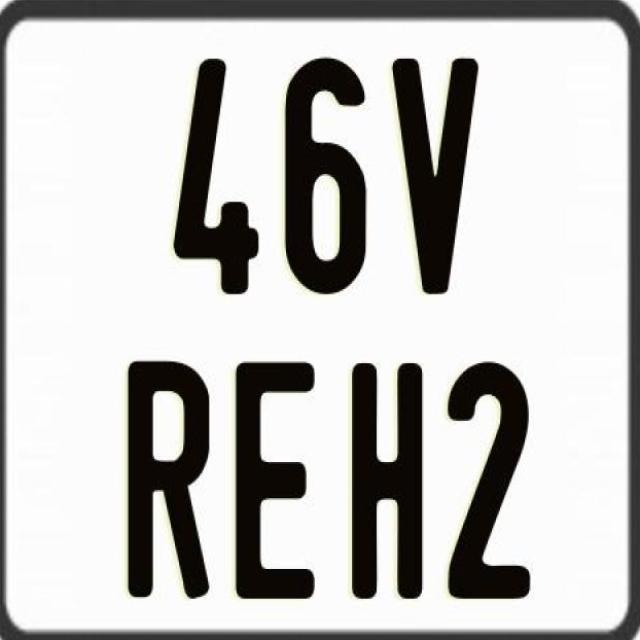license-plate: (10, 14, 620, 640)
